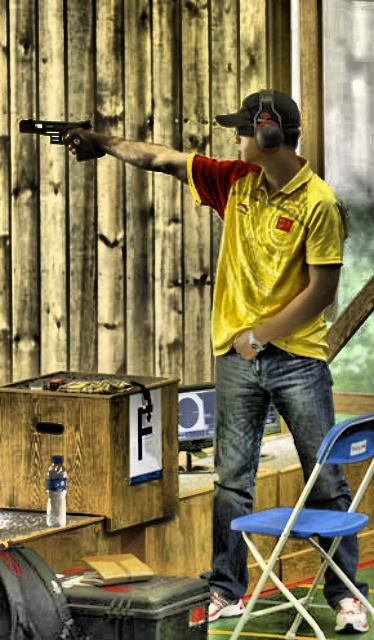pistol: (19, 116, 104, 158)
